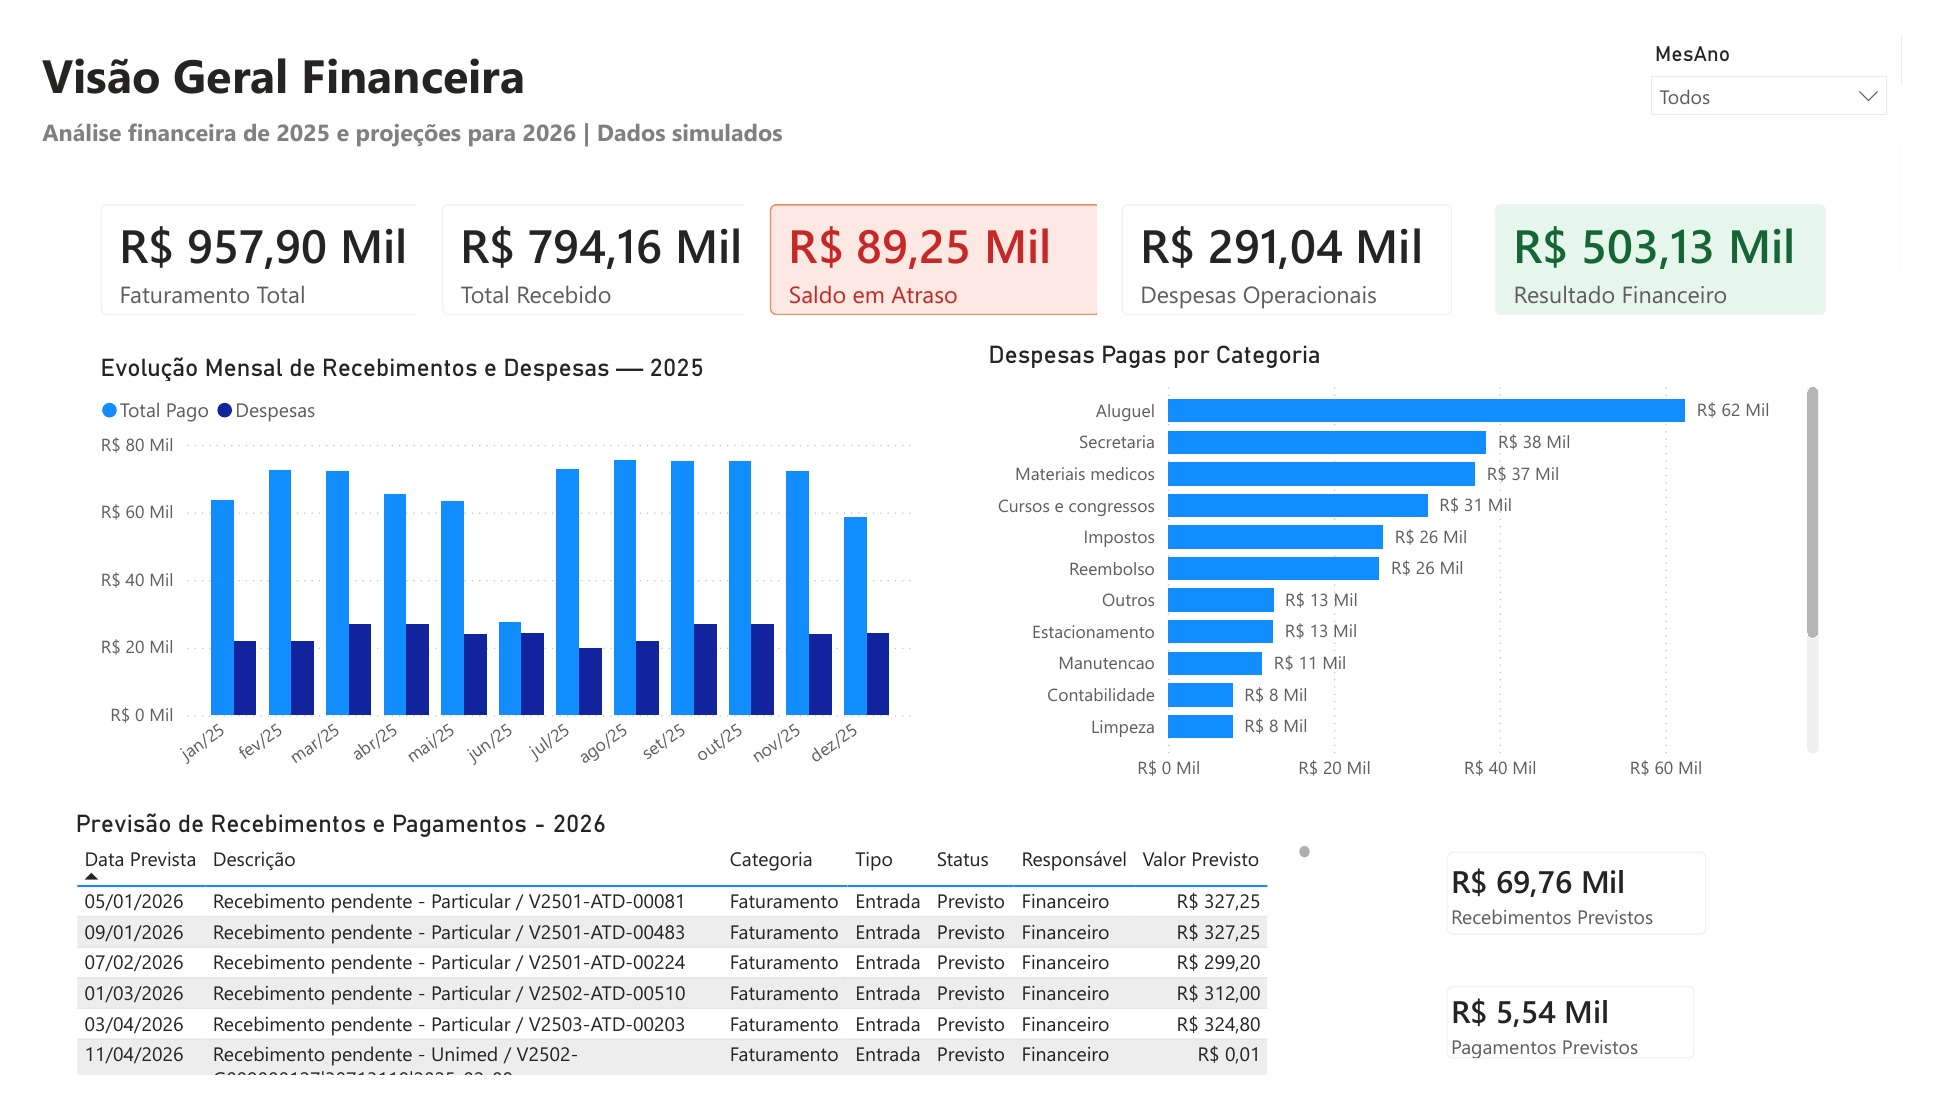

This screenshot's page, from the dashboard's own definition file:
{"tool":"powerbi","page":{"name":"Visão Financeira","canvas":[1280,720],"ordinal":0},"visuals":[{"type":"cardVisual","fields":{"Data":["Medidas.Total Apresentado"]},"box":[28.1,99,261.7,110.1],"z":0},{"type":"tableEx","title":"Previsão de Recebimentos e Pagamentos - 2026","fields":{"Values":["Contas_Futuras.data_prevista","Contas_Futuras.descricao","Contas_Futuras.categoria","Contas_Futuras.tipo","Contas_Futuras.status","Contas_Futuras.responsavel","Sum(Contas_Futuras.valor_previsto_rs)"]},"box":[23.3,531,856.3,186.6],"z":1000},{"type":"slicer","fields":{"Values":["Calendario.MesAno"]},"box":[1098.5,0,181.5,70.8],"z":2000},{"type":"textbox","box":[0,0,503.8,62.4],"z":3000},{"type":"cardVisual","fields":{"Data":["Medidas.Total Pago"]},"box":[261.7,99,261.7,110.1],"z":4000},{"type":"cardVisual","fields":{"Data":["Medidas.Saldo em Atraso - Visão Geral"]},"box":[486.7,99,261.7,110.1],"z":5000},{"type":"cardVisual","fields":{"Data":["Medidas.Total Despesas Pagas"]},"box":[727.6,99,261.7,110.1],"z":6000},{"type":"cardVisual","fields":{"Data":["Medidas.Resultado Financeiro"]},"box":[984.4,99,261.7,110.1],"z":7000},{"type":"lineClusteredColumnComboChart","title":"Evolução Mensal de Recebimentos e Despesas — 2025","fields":{"Category":["Calendario.MesAno"],"Y":["Medidas.Total Pago","Medidas.Total Despesas Pagas"]},"box":[40.4,217.7,566.2,304.5],"z":8000},{"type":"clusteredBarChart","title":"Despesas Pagas por Categoria","fields":{"Category":["Despesas.categoria"],"Y":["Medidas.Total Despesas Pagas"]},"box":[649.2,209.2,578.5,312.3],"z":9000},{"type":"textbox","box":[0,51.4,739.8,35.5],"z":10000},{"type":"cardVisual","fields":{"Data":["Medidas.Recebimentos Previstos"]},"box":[951.4,542.9,212.8,91.7],"z":11000},{"type":"cardVisual","fields":{"Data":["Medidas.Pagamentos Previstos"]},"box":[951.4,634.7,204.2,84.4],"z":12000}]}

Visuals, with their boxes in screenshot pixels (x1, y1, x2, y2), scaled from the page's 1280x720 canvas onto the 1937x1120 screenshot:
cardVisual - Medidas.Total Apresentado: select_region(43, 154, 439, 325)
"Previsão de Recebimentos e Pagamentos - 2026" tableEx: select_region(35, 826, 1331, 1116)
slicer - Calendario.MesAno: select_region(1662, 0, 1936, 110)
textbox: select_region(0, 0, 762, 97)
cardVisual - Medidas.Total Pago: select_region(396, 154, 792, 325)
cardVisual - Medidas.Saldo em Atraso - Visão Geral: select_region(737, 154, 1133, 325)
cardVisual - Medidas.Total Despesas Pagas: select_region(1101, 154, 1497, 325)
cardVisual - Medidas.Resultado Financeiro: select_region(1490, 154, 1886, 325)
"Evolução Mensal de Recebimentos e Despesas — 2025" lineClusteredColumnComboChart: select_region(61, 339, 918, 812)
"Despesas Pagas por Categoria" clusteredBarChart: select_region(982, 325, 1858, 811)
textbox: select_region(0, 80, 1120, 135)
cardVisual - Medidas.Recebimentos Previstos: select_region(1440, 845, 1762, 987)
cardVisual - Medidas.Pagamentos Previstos: select_region(1440, 987, 1749, 1119)
